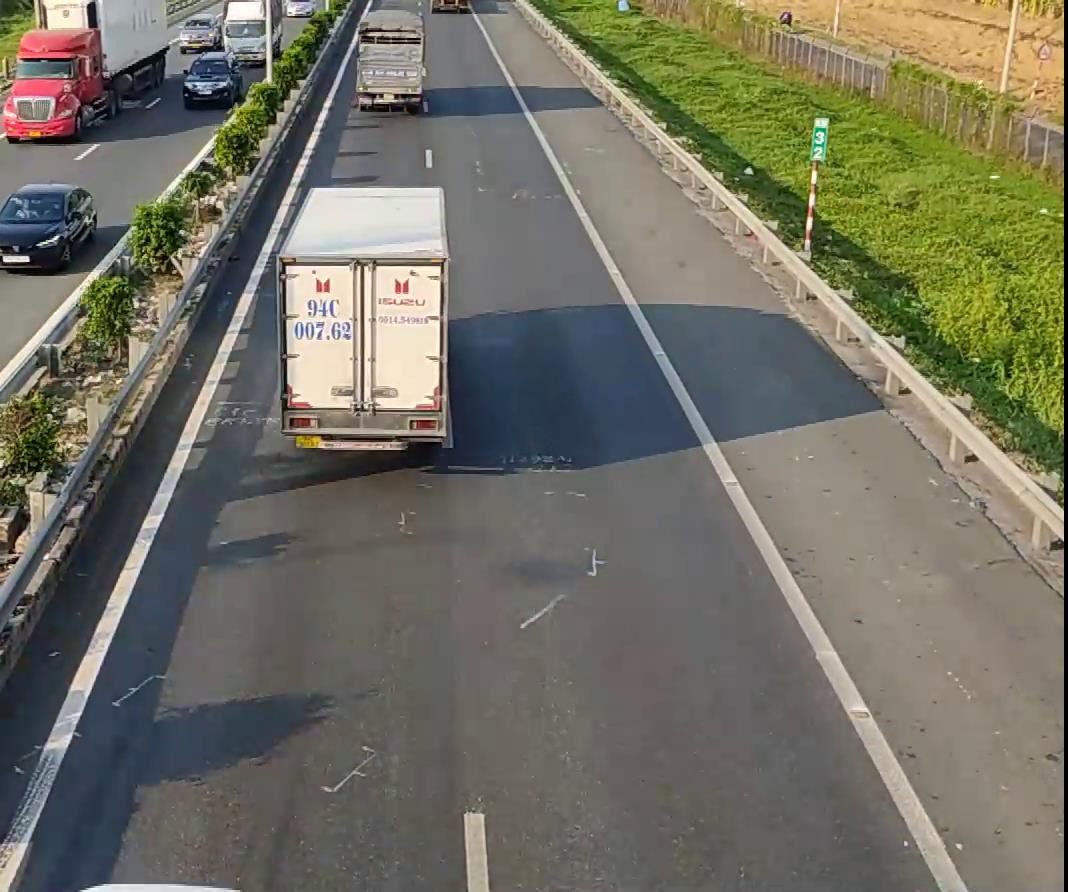car: (0, 180, 97, 272)
container: (0, 0, 170, 137)
truck: (271, 178, 446, 464), (353, 3, 429, 111)
